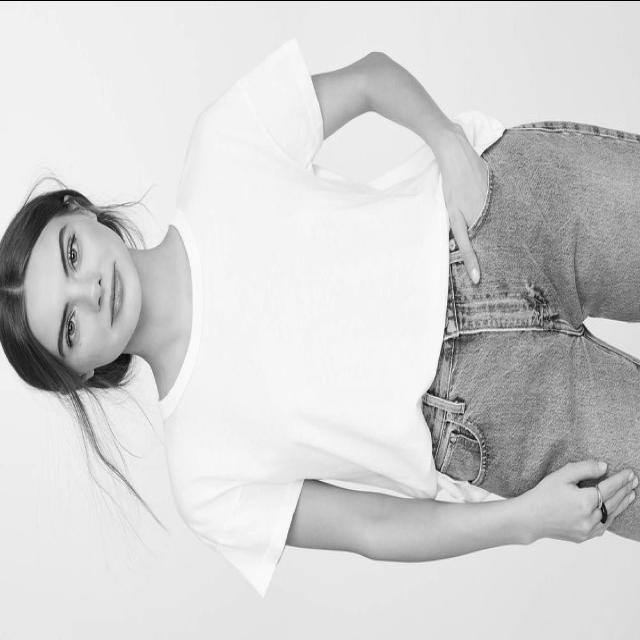shoulder: (164, 75, 264, 552)
